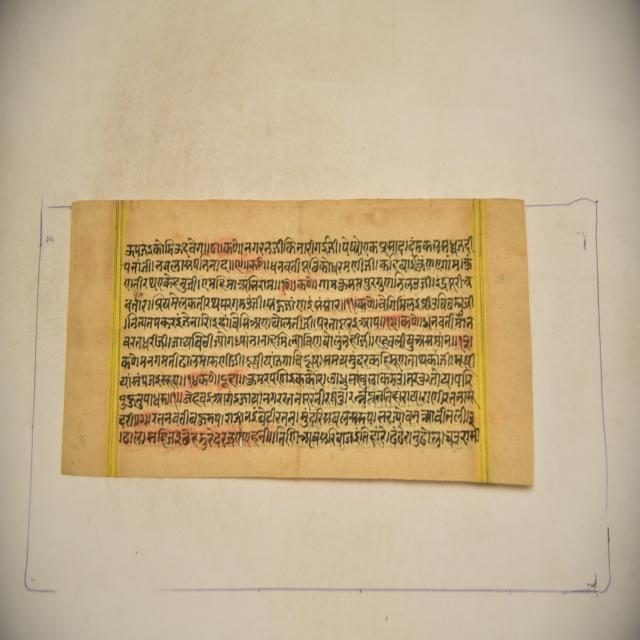text_paragraph: (63, 198, 530, 479)
